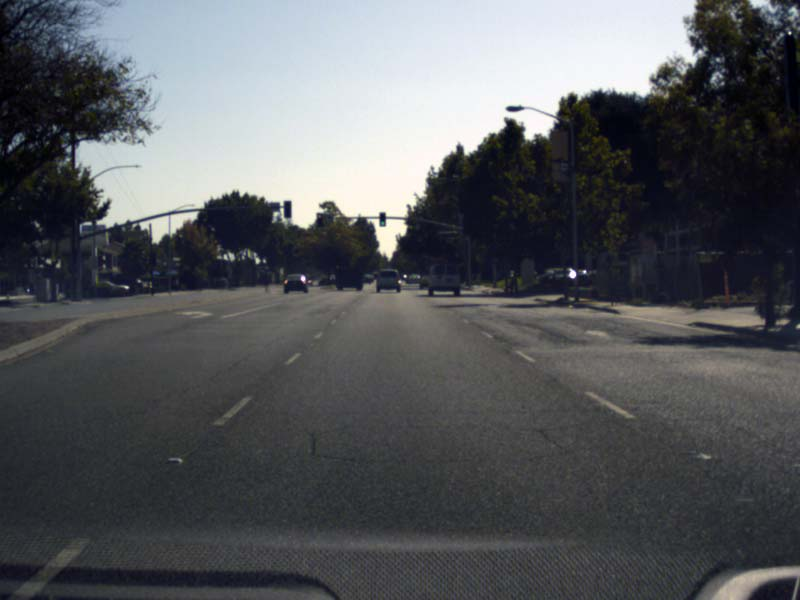Green: (379, 212, 385, 226)
Yellow: (317, 212, 322, 225)
